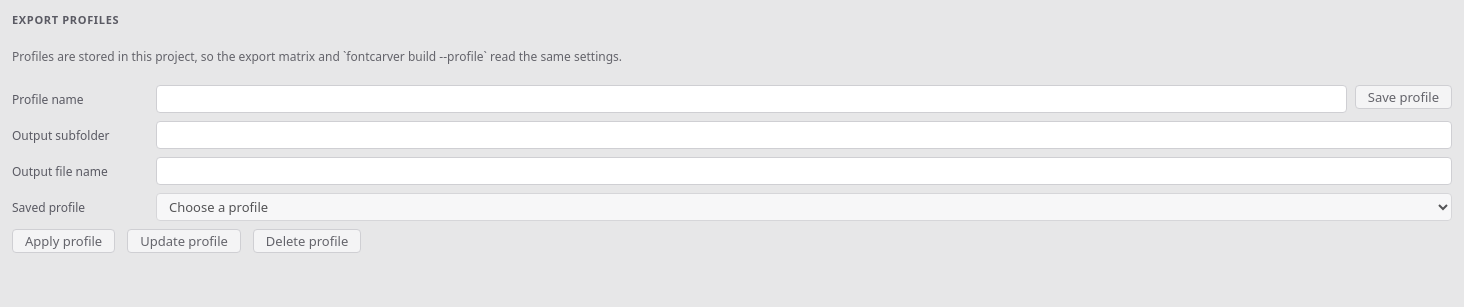
Test case: ExportProfiles › reports a duplicate name and an unsafe subfolder without writing
The width and height of the screenshot is (1464, 307).
In the field labelled "Profile name": [751, 99] box [156,85,1347,113], type "Web"
Click the button "Save profile": [1403, 97] box [1355,85,1452,109]
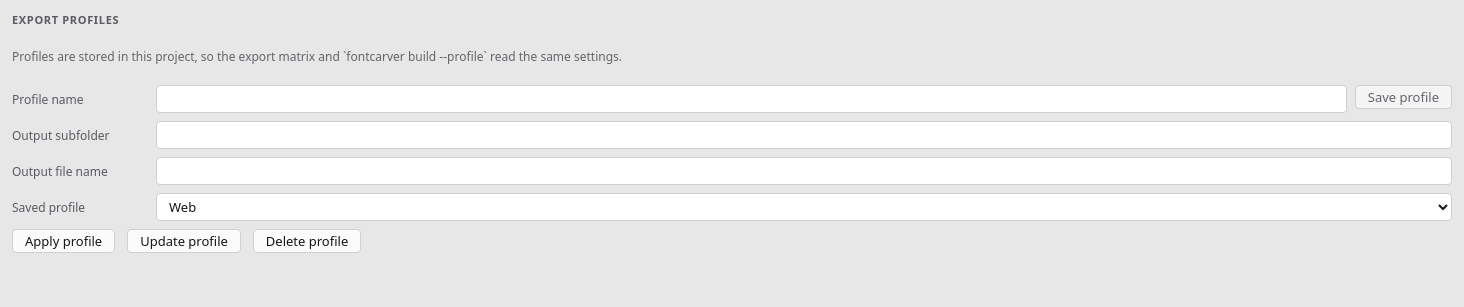
In the field labelled "Profile name": [751, 99] box [156,85,1347,113], type "web"
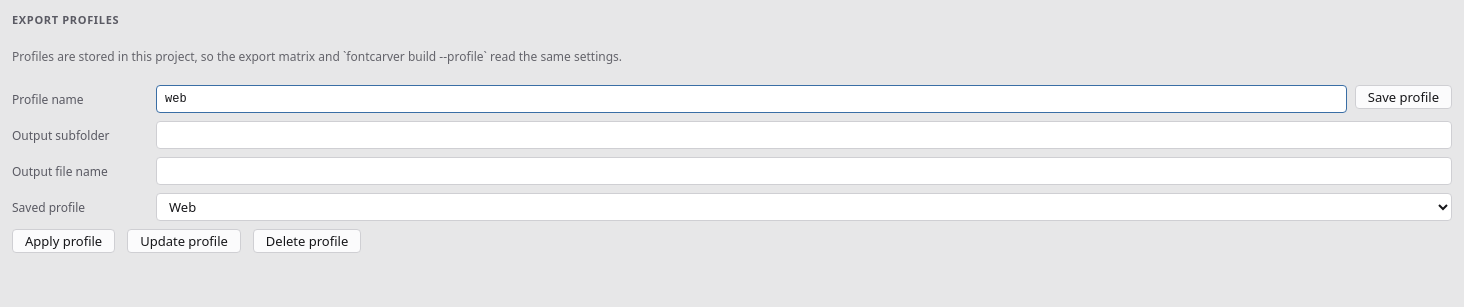
Click the button "Save profile": [1403, 97] box [1355,85,1452,109]
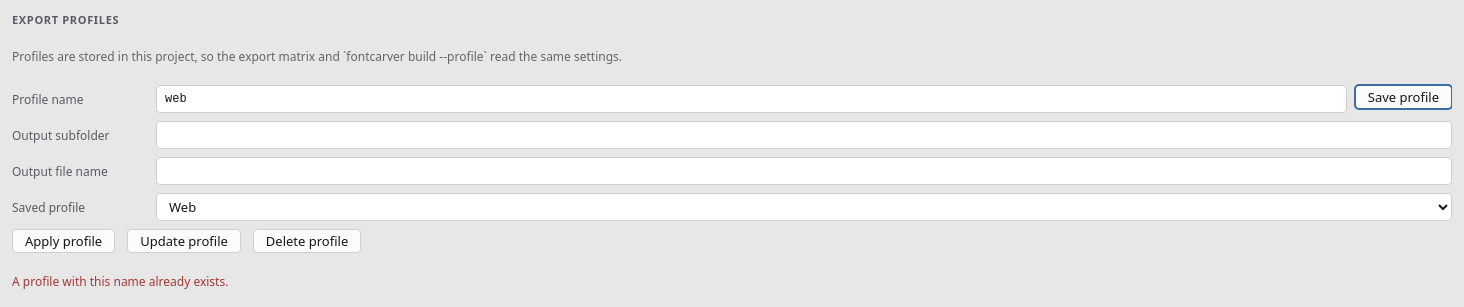
Expected: the message reads "A profile with this name already exists.", [12,273,228,290]
Replace the text in the field labelled "Profile name" with "Escape": [751, 99] box [156,85,1347,113]
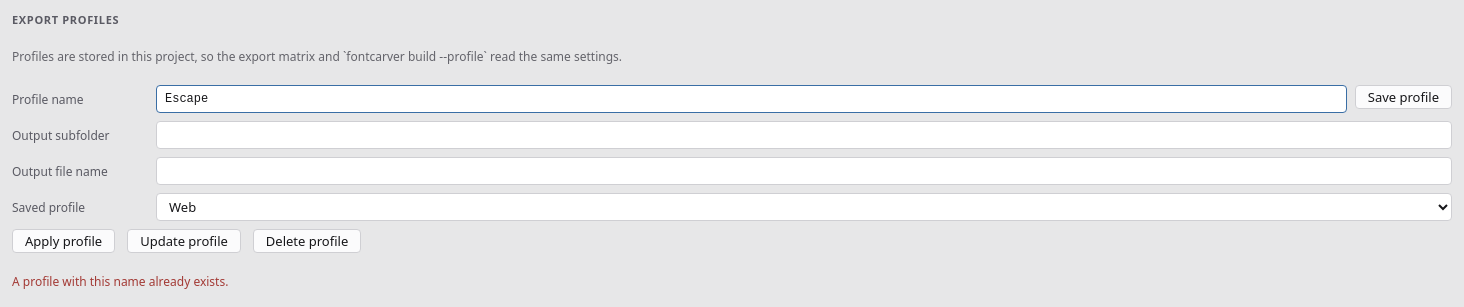
In the field labelled "Output subfolder": [804, 135] box [156,121,1452,149], type "../up"
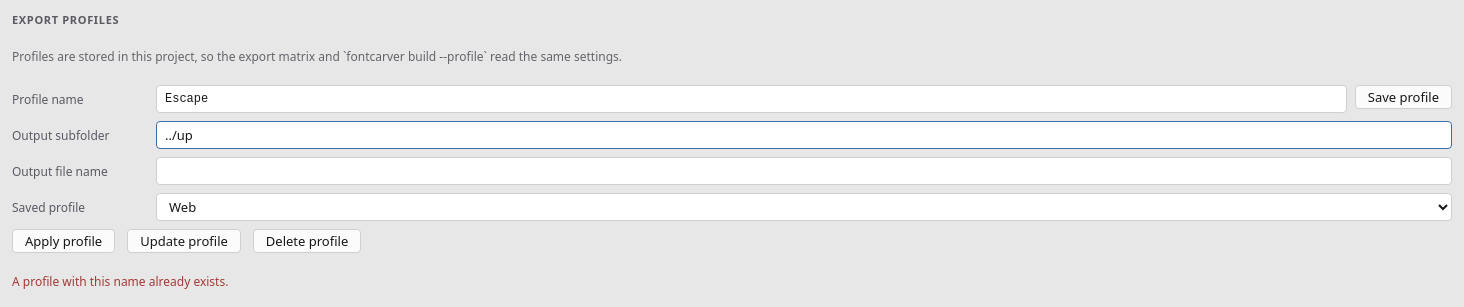
Click the button "Save profile": [1403, 97] box [1355,85,1452,109]
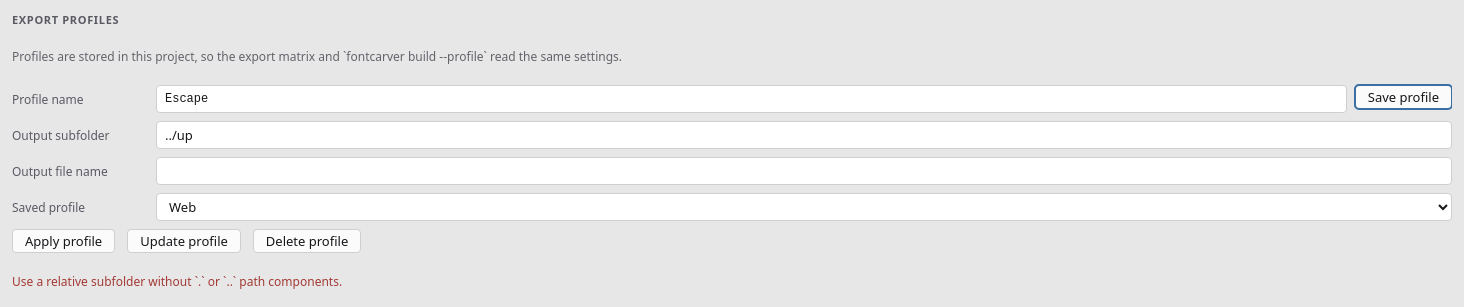
Expected: the message shows "Use a relative subfolder without", [12,273,342,290]
